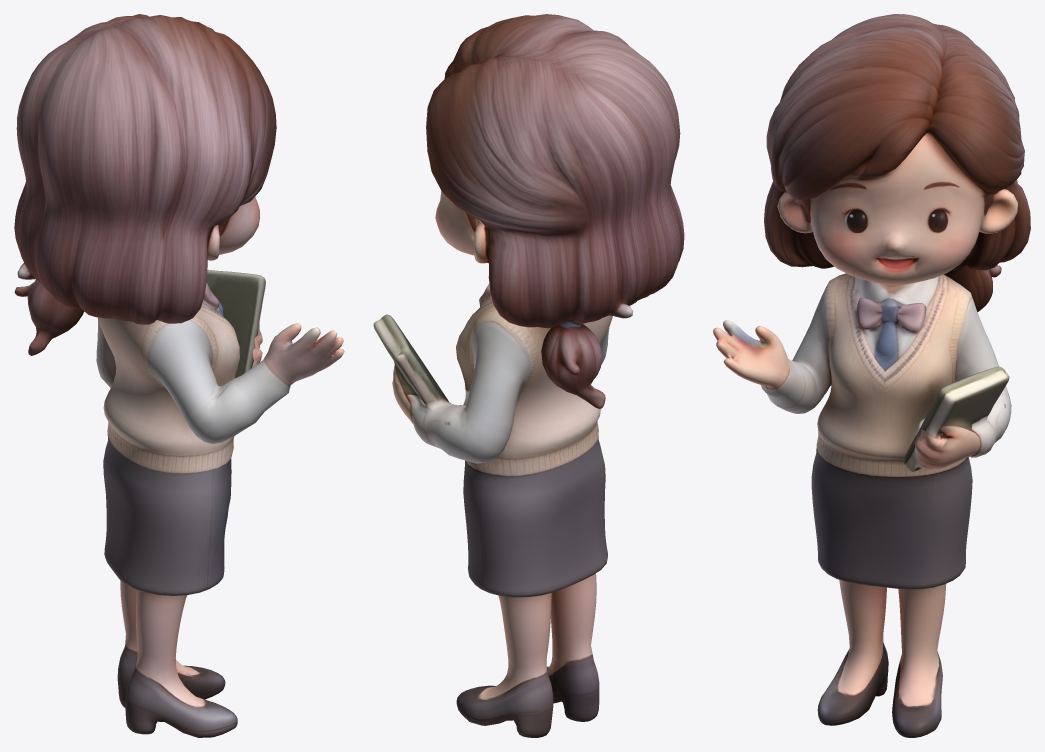
Rendered from teacher.glb.
The picture shows the model from 3 angles, left to right: view 1: azimuth 30°, elevation 25°; view 2: azimuth 150°, elevation 25°; view 3: azimuth 270°, elevation 25°; orthographic projection. The views are drawn at different scales.
Visible parts, largest first — view 1: tripo_node_4b7d72f9-e2c9-45d1-8b09-4687e3182ad6; view 2: tripo_node_4b7d72f9-e2c9-45d1-8b09-4687e3182ad6; view 3: tripo_node_4b7d72f9-e2c9-45d1-8b09-4687e3182ad6.
Part boxes in pixels (<box>): tripo_node_4b7d72f9-e2c9-45d1-8b09-4687e3182ad6: <box>14,14,344,737</box>; tripo_node_4b7d72f9-e2c9-45d1-8b09-4687e3182ad6: <box>373,14,684,737</box>; tripo_node_4b7d72f9-e2c9-45d1-8b09-4687e3182ad6: <box>713,14,1030,737</box>.
Bounding box in the file's own units: 0.3922 × 0.9997 × 0.4262.
Materials: 1 (1 with a texture image).
